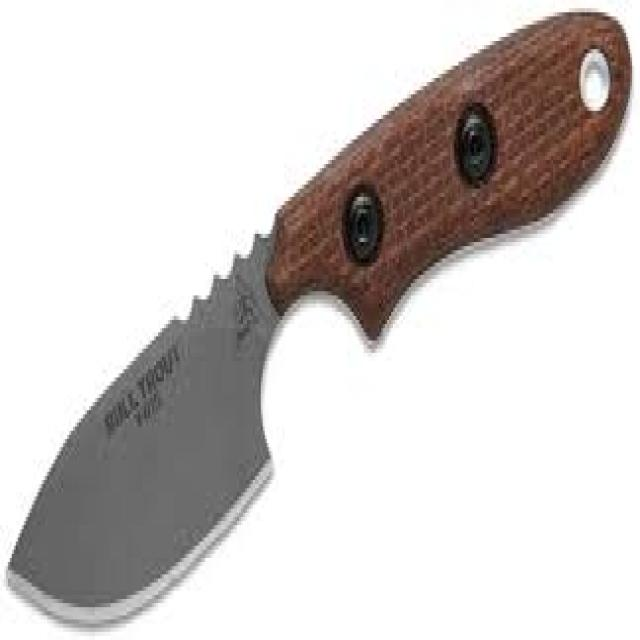knives: (2, 4, 632, 632)
